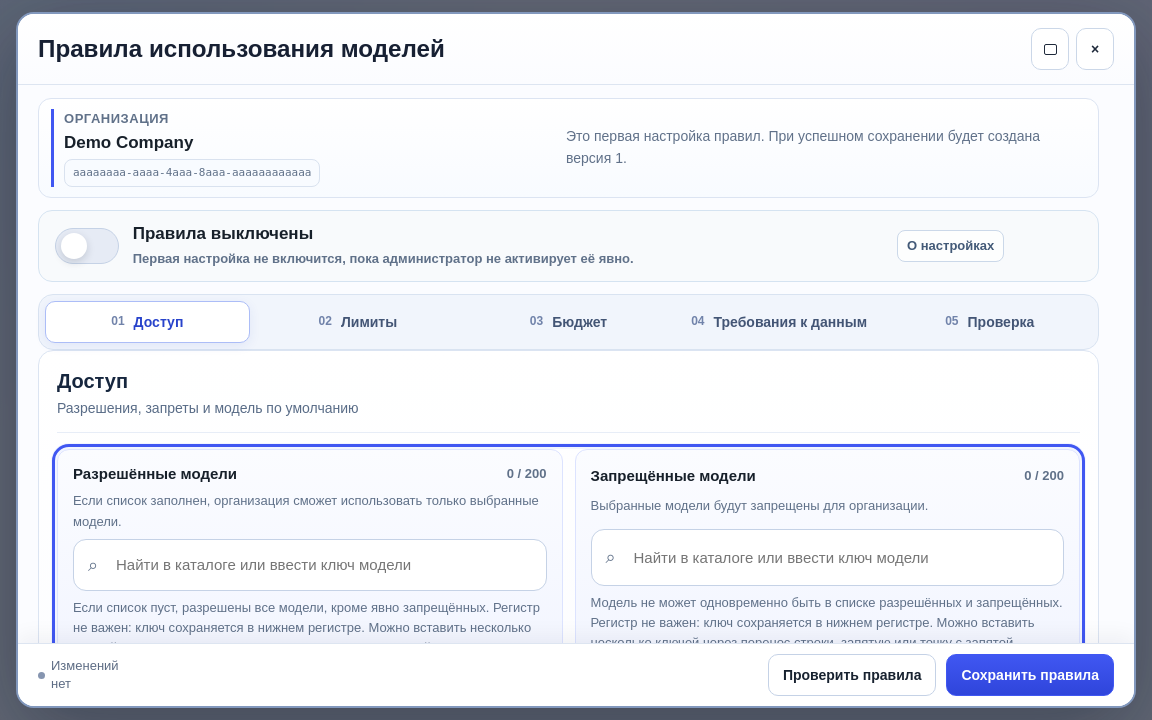
ModelPolicyModal › переключает вкладки семантически, а поля скрытых разделов недоступны
Expected: the field with placeholder "Например: 32000" is not shown
Click the tab "02 Лимиты": (358, 322) [256, 301, 460, 343]
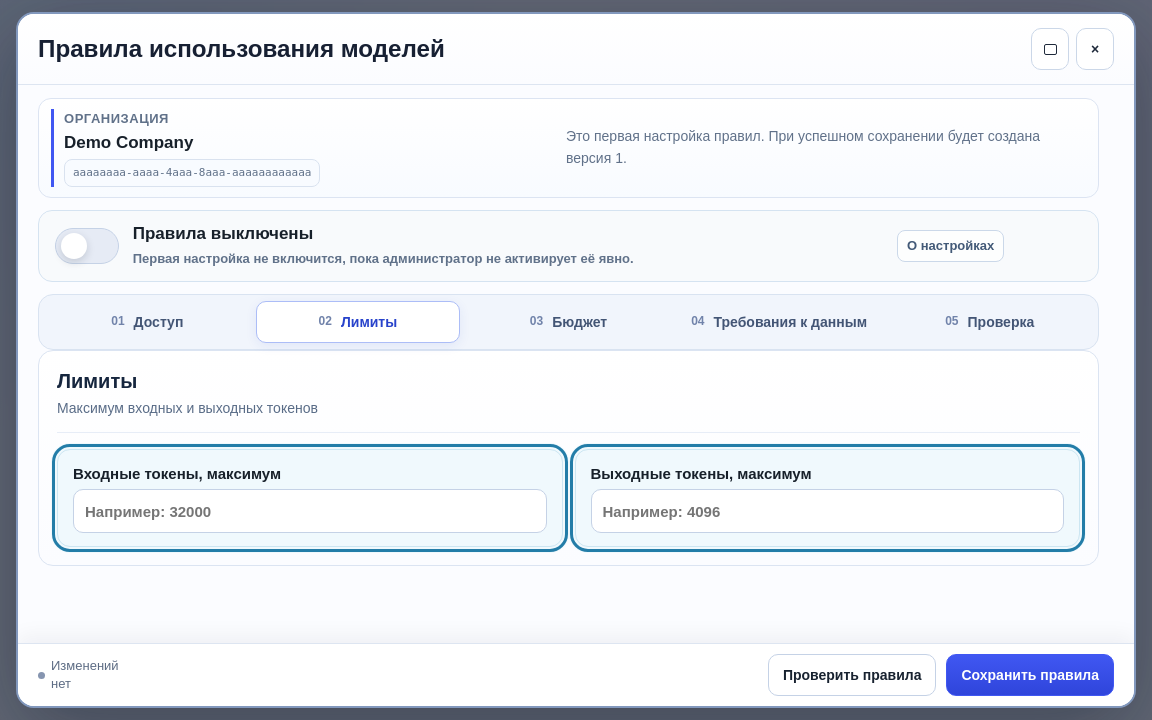
Expected: the field with placeholder "Например: 32000" is shown, [73, 489, 546, 533]
Expected: the label "Разрешённые модели" is gone
Click the tab "03 Бюджет": (568, 322) [466, 301, 671, 343]
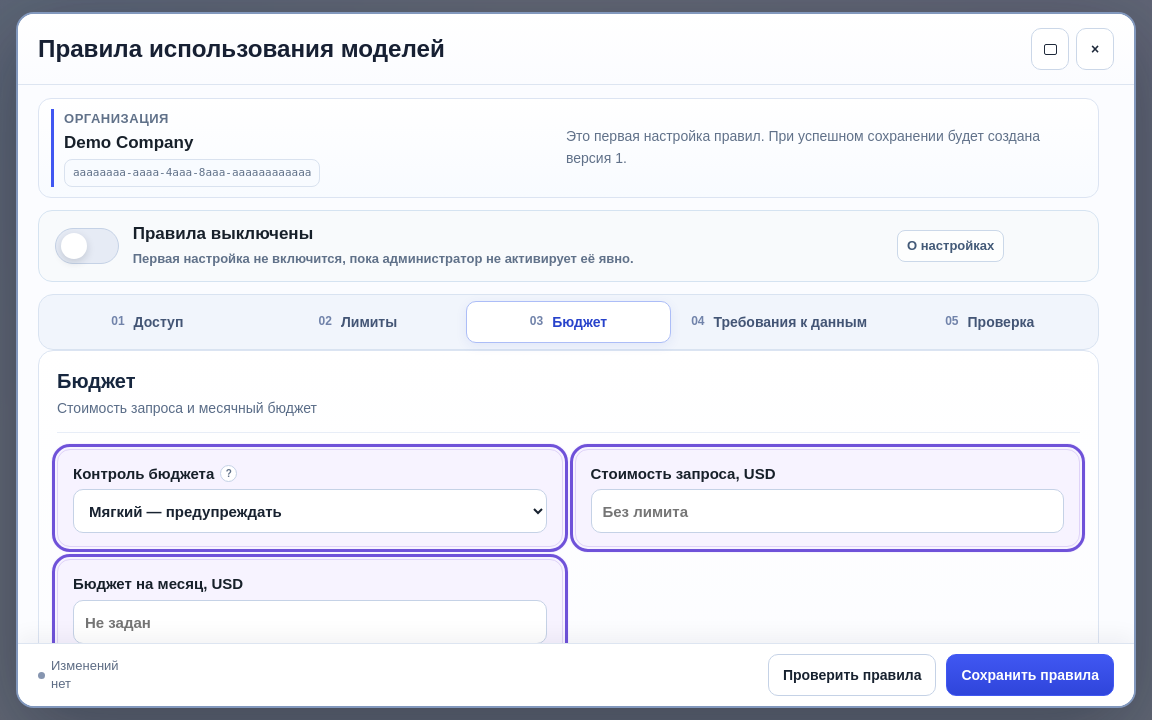
Expected: the dropdown labelled "Контроль бюджета ?" is shown, [73, 489, 546, 533]
Click the tab "04 Требования к данным": (779, 322) [677, 301, 881, 343]
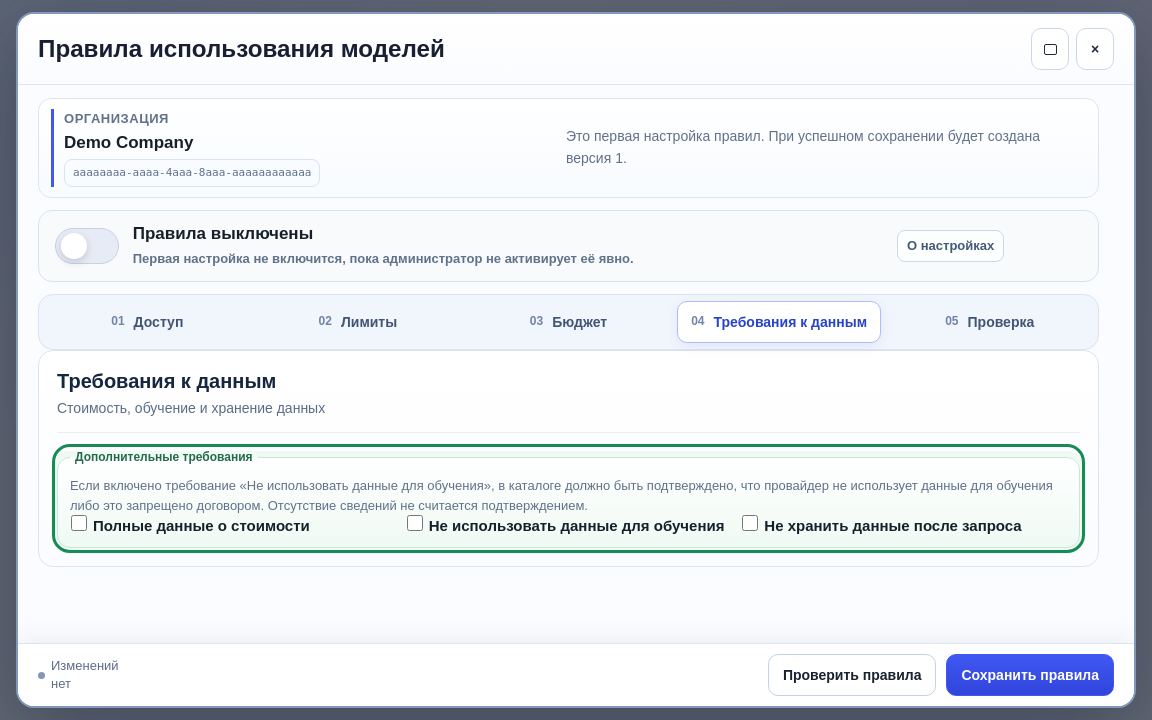
Expected: the checkbox labelled "Полные данные о стоимости" is shown, [70, 515, 88, 531]
